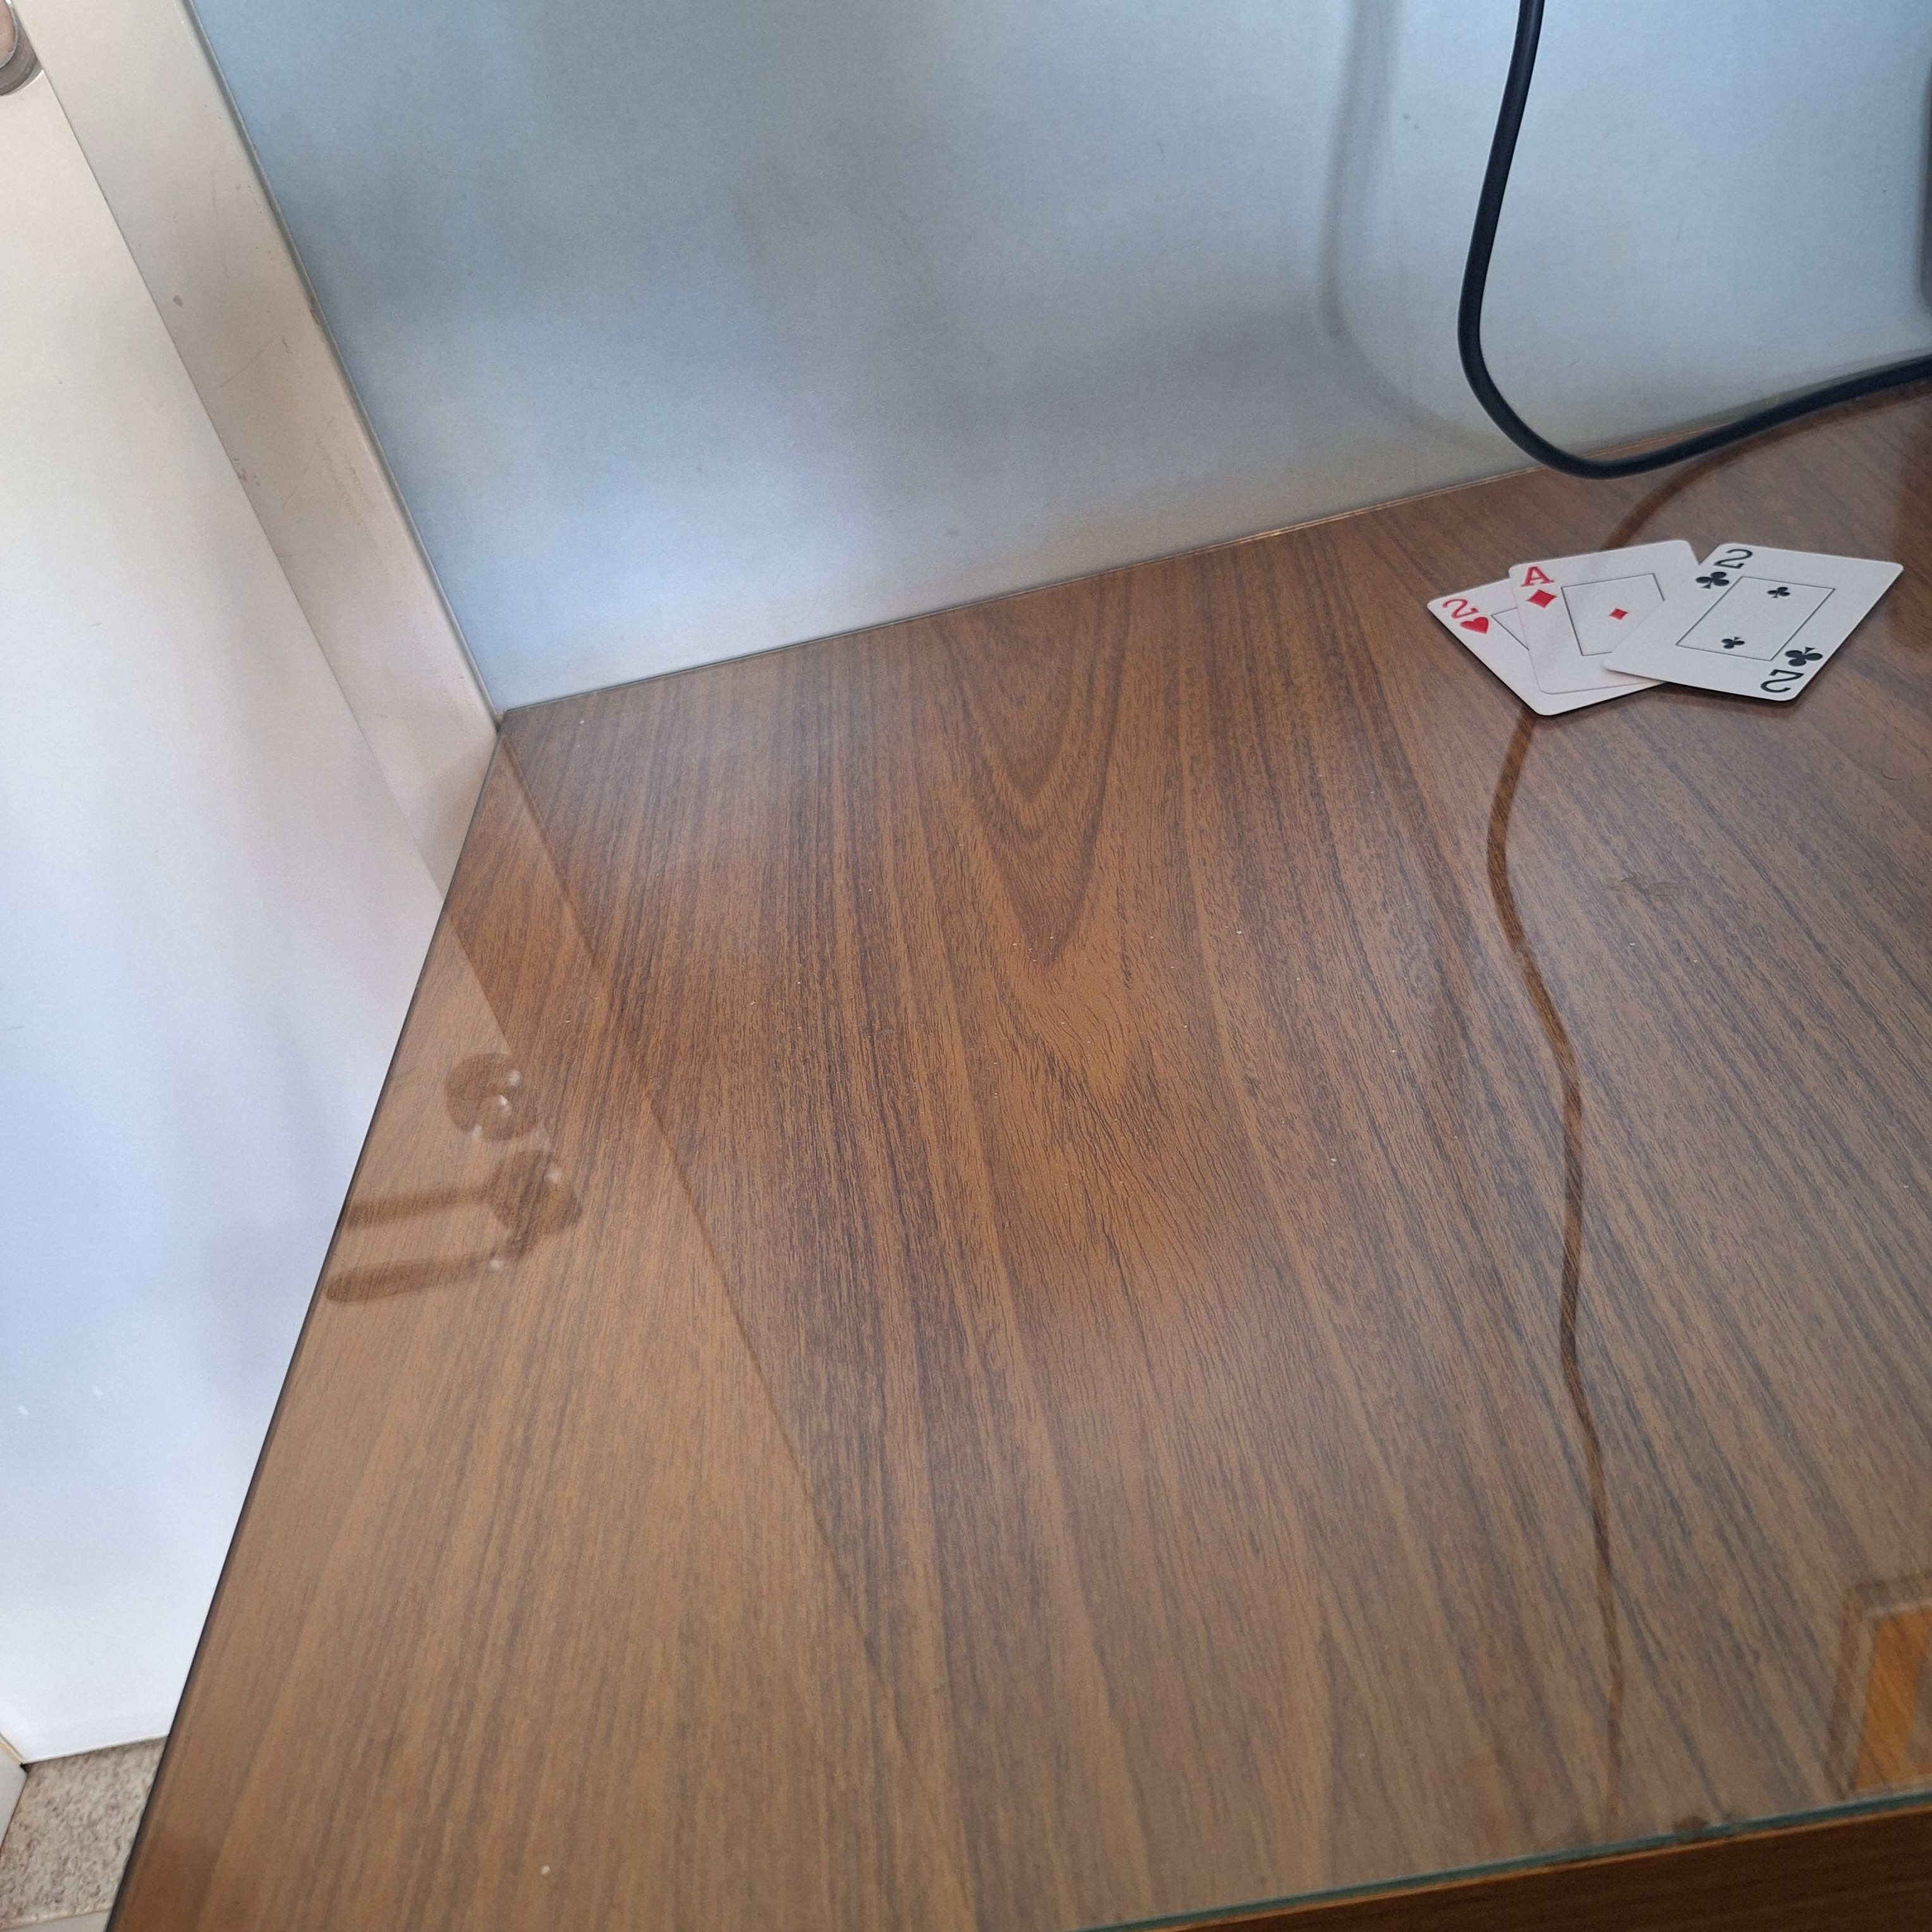2C: (1421, 584, 1507, 644)
2P: (1748, 637, 1829, 701), (1686, 541, 1757, 596)
AO: (1513, 561, 1564, 616)
